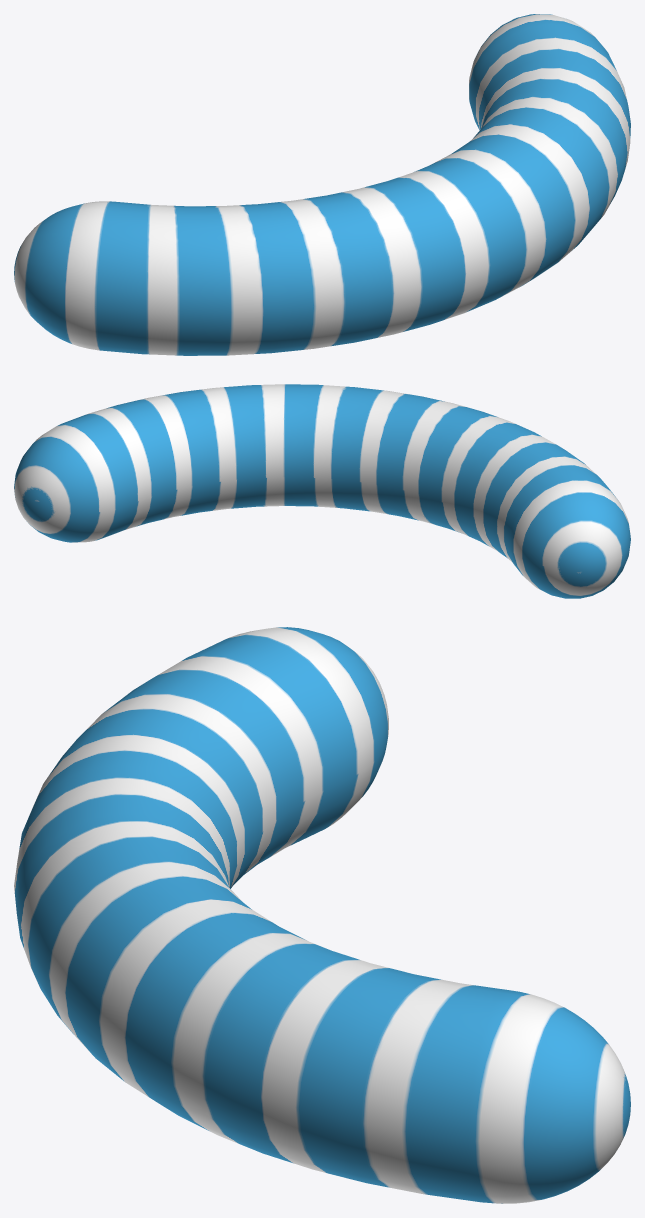
The model's file is Blue Candy.fbx.
The picture shows the model from 3 angles, top to bottom: view 1: azimuth 30°, elevation 25°; view 2: azimuth 150°, elevation 25°; view 3: azimuth 270°, elevation 25°; orthographic projection. The views are drawn at different scales.
Parts seen in each view (by area): view 1: Capsule_1; view 2: Capsule_1; view 3: Capsule_1.
Boxes of the visible parts, box(x1,y1,x2,y2) form: Capsule_1: box(14, 14, 630, 355); Capsule_1: box(14, 384, 630, 598); Capsule_1: box(14, 627, 630, 1203).
Size of the model in its own units: 138 by 27.21 by 78.33.
Materials: 1 (1 with a texture image).
